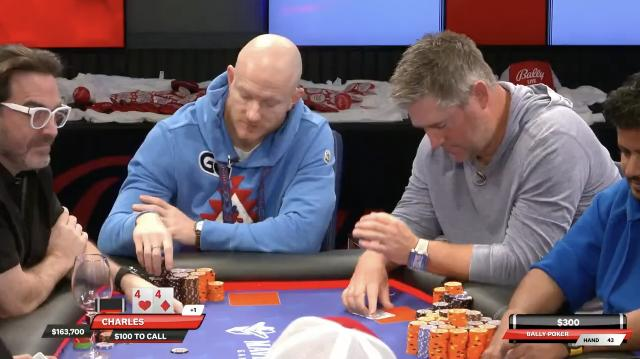4D: (152, 289, 174, 315)
4H: (134, 288, 152, 314)
